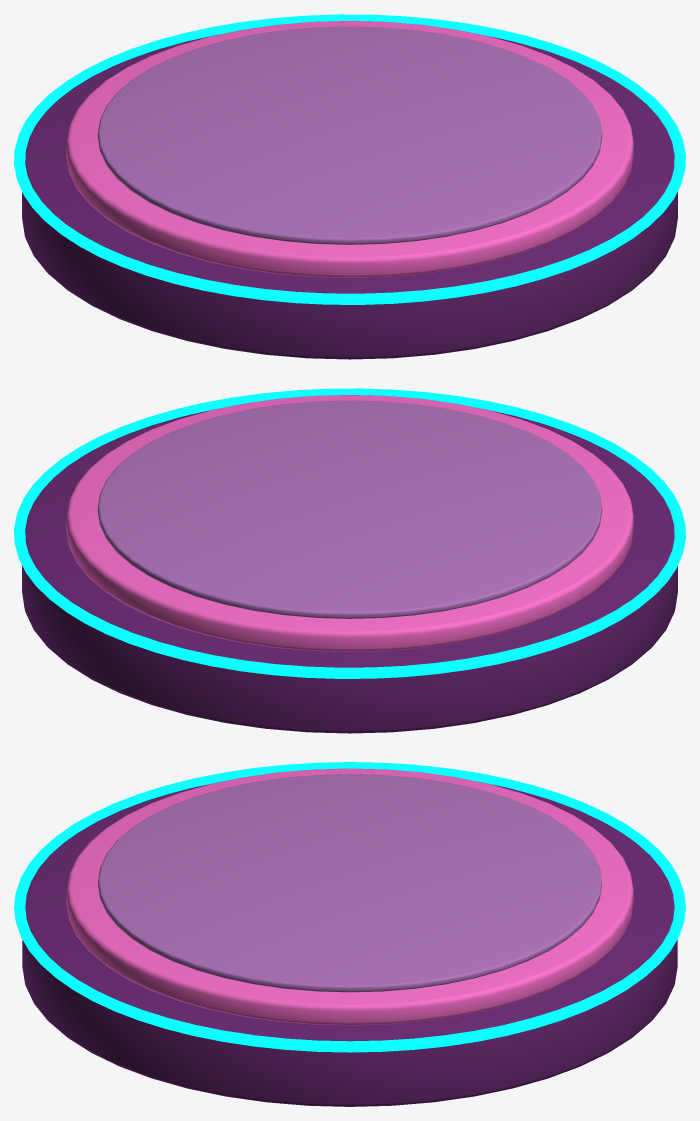
Rendered from podium-premier-medium.glb.
The picture shows the model from 3 angles, top to bottom: view 1: azimuth 30°, elevation 25°; view 2: azimuth 150°, elevation 25°; view 3: azimuth 270°, elevation 25°; orthographic projection.
Visible parts, largest first — view 1: deck, base, top, Torus; view 2: deck, base, top, Torus; view 3: deck, base, top, Torus.
Boxes of the visible parts, bbox=[...] form: deck: bbox=[97, 26, 602, 244]; base: bbox=[22, 34, 677, 359]; top: bbox=[66, 21, 633, 277]; Torus: bbox=[14, 14, 685, 304]; deck: bbox=[97, 400, 602, 618]; base: bbox=[22, 408, 677, 733]; top: bbox=[66, 395, 633, 651]; Torus: bbox=[14, 388, 685, 678]; deck: bbox=[98, 774, 601, 992]; base: bbox=[22, 781, 677, 1106]; top: bbox=[66, 768, 633, 1025]; Torus: bbox=[14, 762, 685, 1052].
Size of the model in its own units: 5.33 by 0.79 by 5.33.
